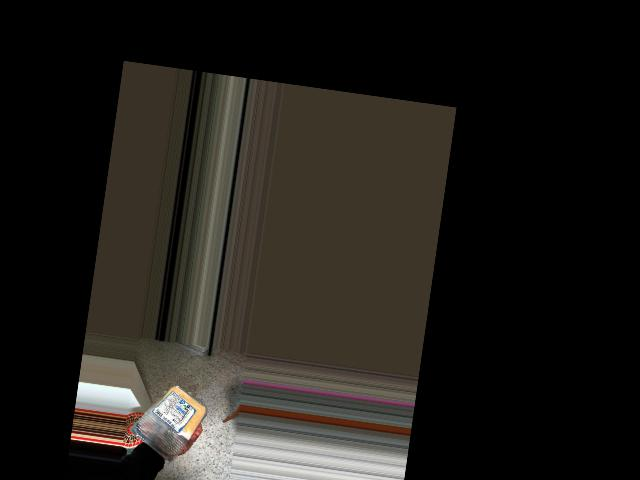cheese: (133, 378, 205, 457)
